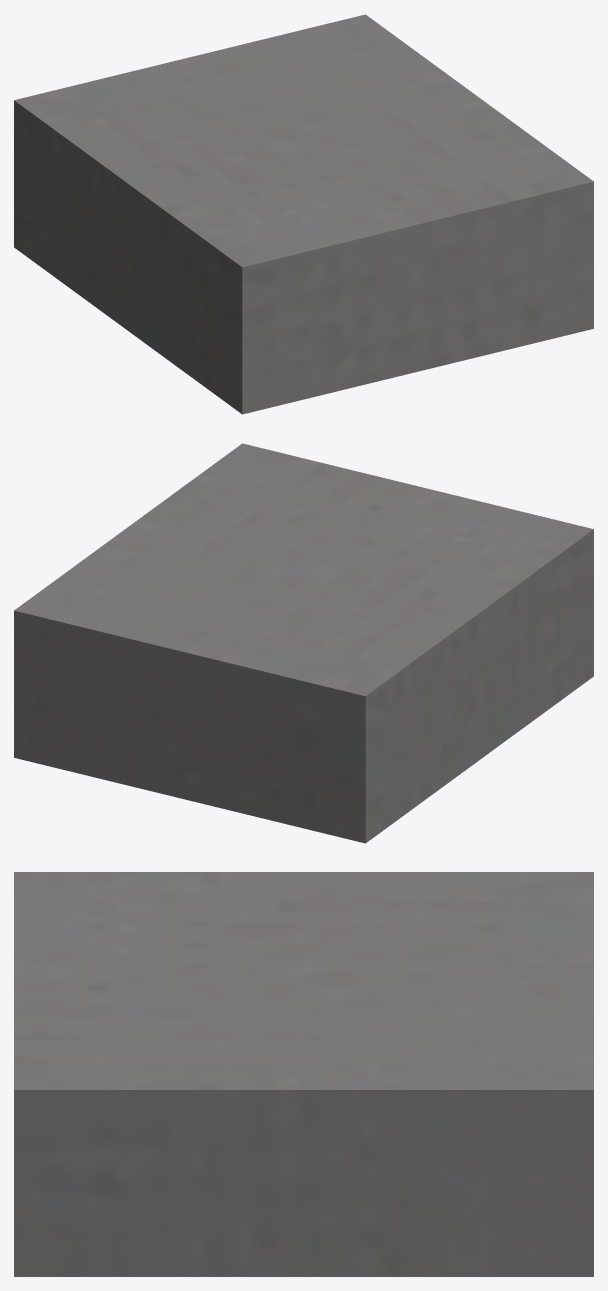
The model's file is back_pad__hinge_web_0.glb.
3 renders of one model, top to bottom at view 1: azimuth 30°, elevation 25°; view 2: azimuth 150°, elevation 25°; view 3: azimuth 270°, elevation 25°, orthographic. The views are drawn at different scales.
Parts seen in each view (by area): view 1: world; view 2: world; view 3: world.
Part boxes in pixels (bbox=[...]): world: bbox=[14, 14, 593, 414]; world: bbox=[14, 443, 593, 843]; world: bbox=[14, 872, 593, 1276].
Size of the model in its own units: 0.08 by 0.032 by 0.09.
1 material, 1 textured.
